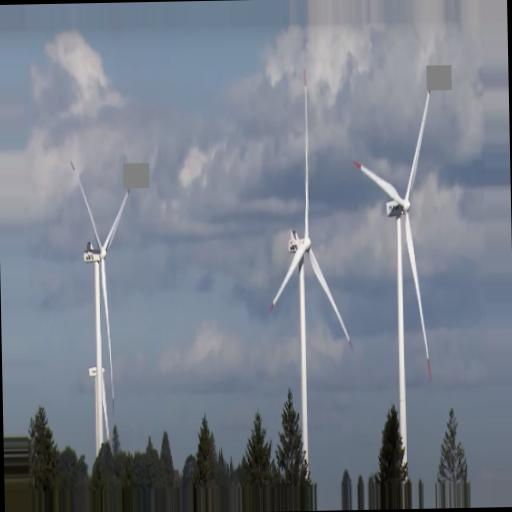wind turbine: (266, 70, 357, 458), (353, 84, 435, 459), (66, 157, 133, 447)
